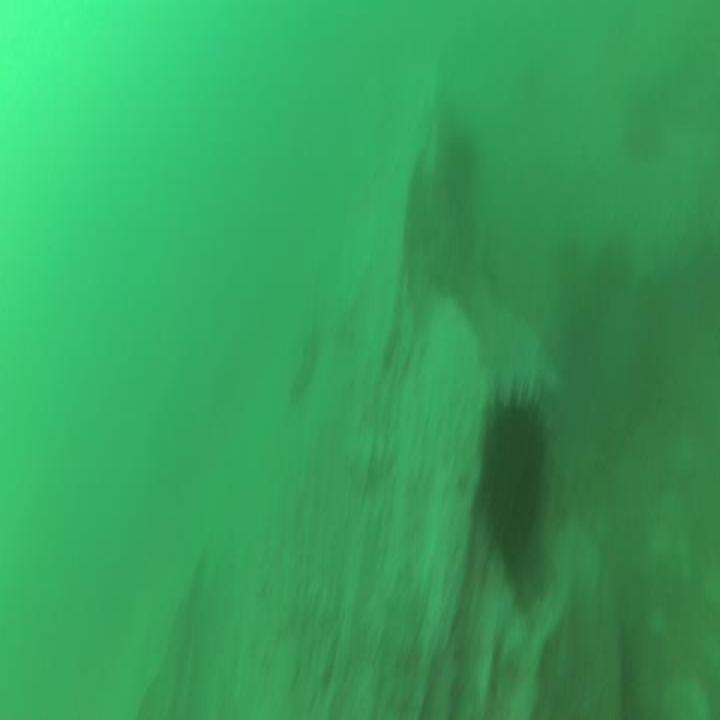echinus: (485, 402, 547, 556)
